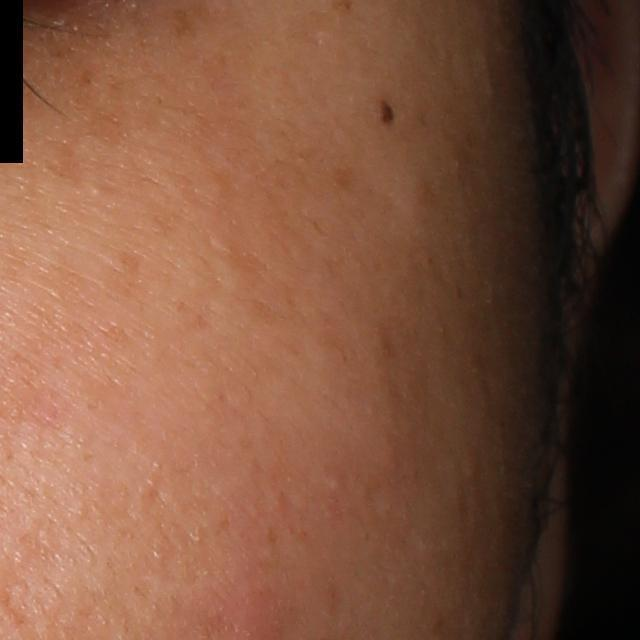melasma: (42, 0, 277, 140)
nevus: (376, 96, 397, 129)
